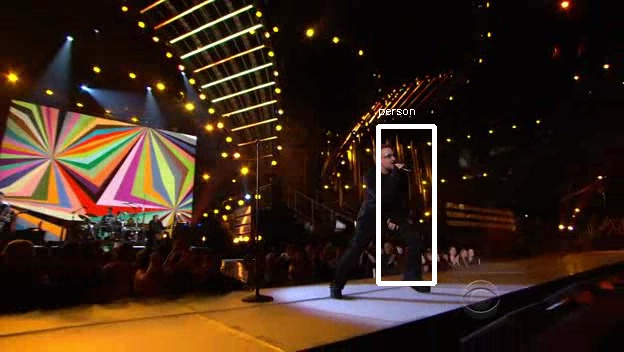person: (355, 145, 419, 245), (352, 145, 416, 245), (358, 145, 422, 245), (355, 142, 419, 242), (355, 148, 419, 248)
target_negative: (3, 89, 331, 131), (229, 315, 380, 336), (131, 237, 183, 277), (81, 237, 337, 243), (582, 59, 604, 121), (108, 334, 261, 339)
